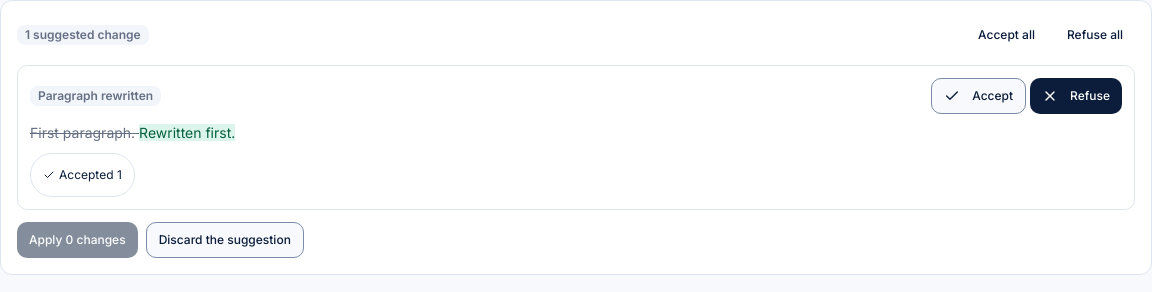
the suggestion surface › accepts and refuses everything in one press
Click the button "Accept all" at (1007,35), box [966,17,1047,53]
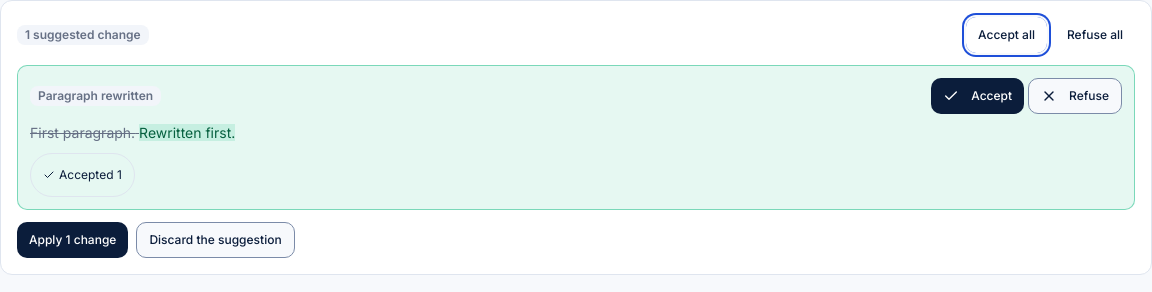
Result: the button "Apply 1 change" is enabled at [17,222,128,258]
Click the button "Refuse all" at (1095,35), box [1055,17,1135,53]
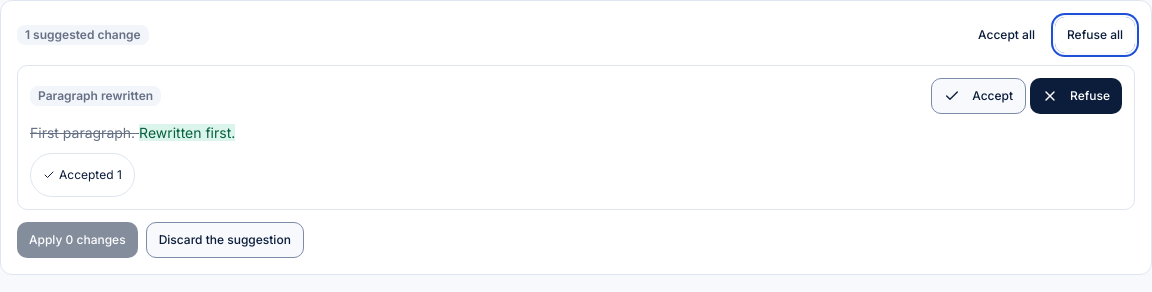
Result: the button "Apply 0 changes" is disabled at [17,222,138,258]
